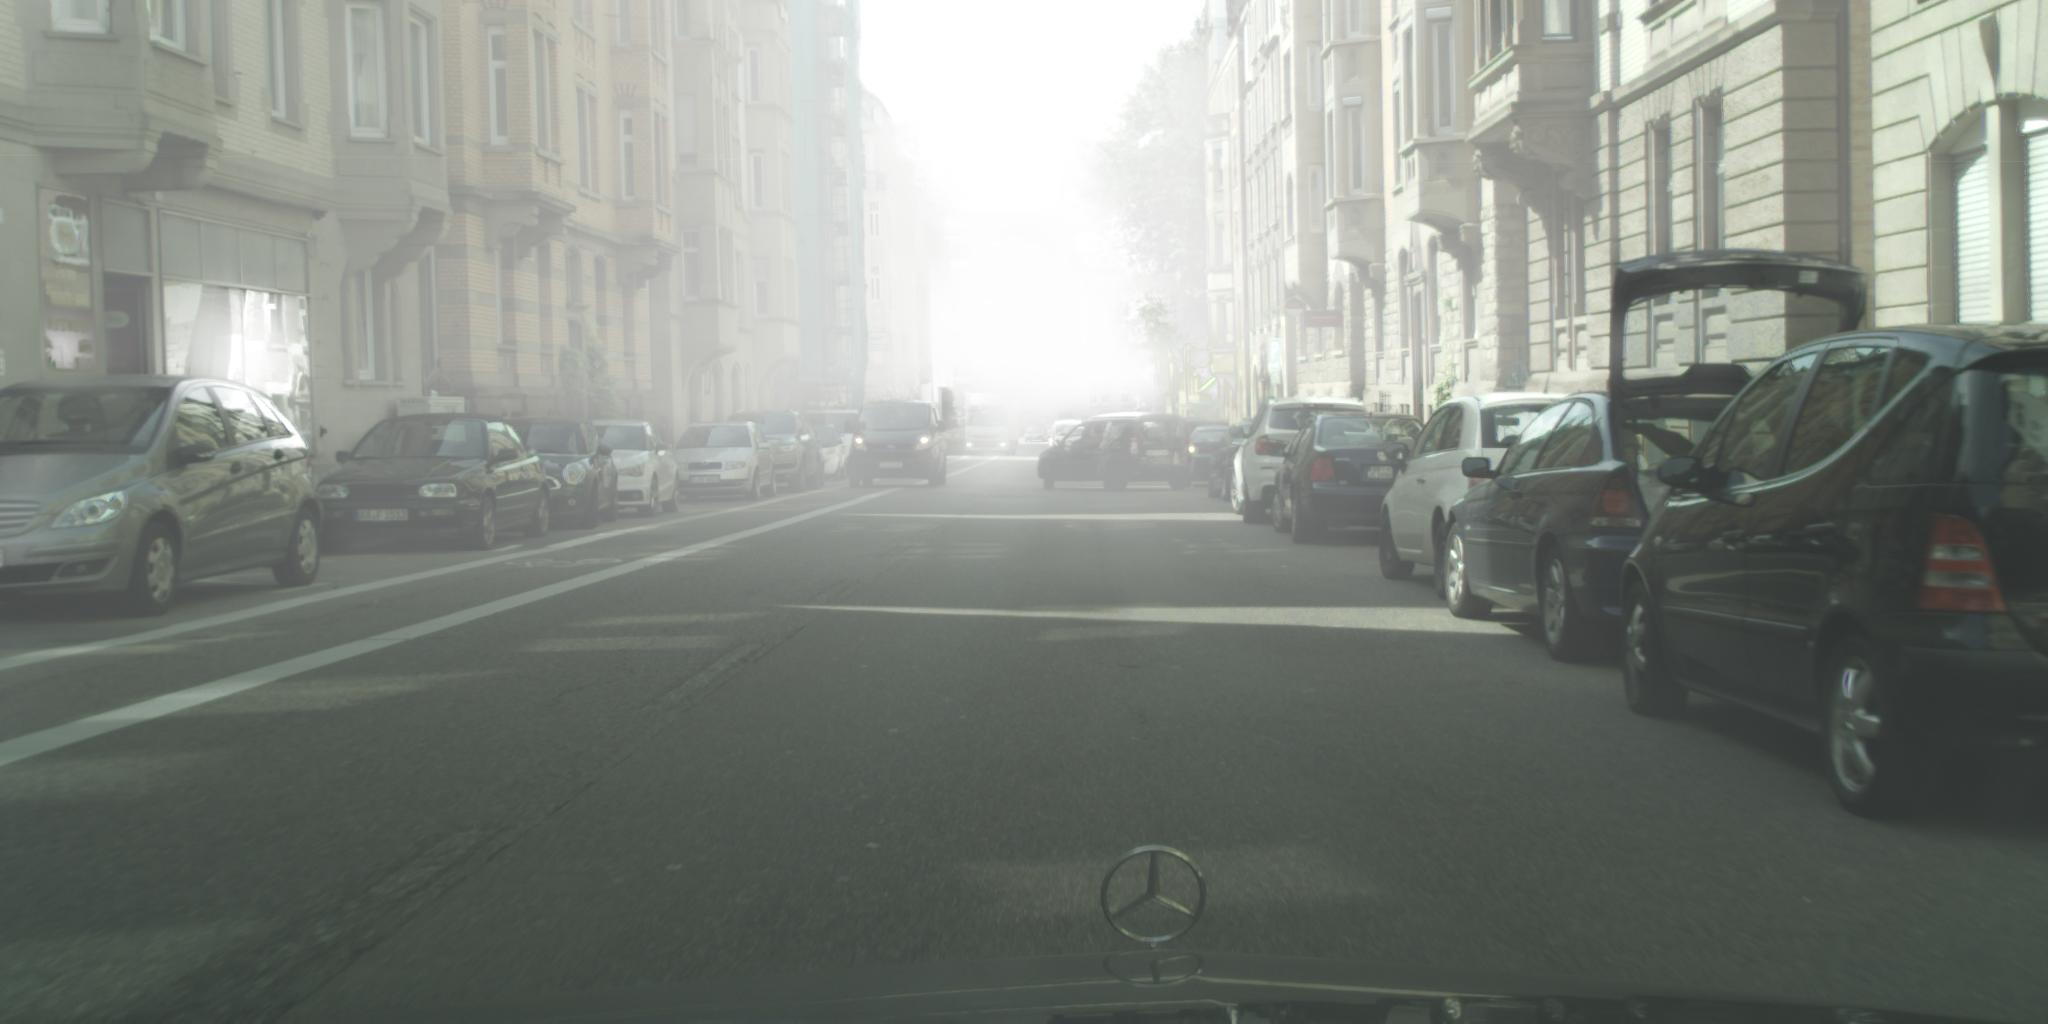car: (1618, 325, 2045, 822), (1443, 249, 1870, 664), (1, 375, 327, 616), (1379, 391, 1590, 603), (313, 413, 552, 556), (1270, 413, 1432, 543), (1230, 397, 1371, 524), (494, 415, 619, 532), (1037, 413, 1196, 492), (579, 421, 682, 519), (844, 401, 951, 488), (673, 423, 778, 504), (724, 410, 825, 494), (803, 411, 874, 478), (1208, 423, 1266, 504), (1179, 427, 1249, 488), (798, 427, 849, 481), (1169, 417, 1230, 455), (1049, 421, 1085, 451), (1025, 426, 1050, 443)
truck: (965, 394, 1021, 458)
